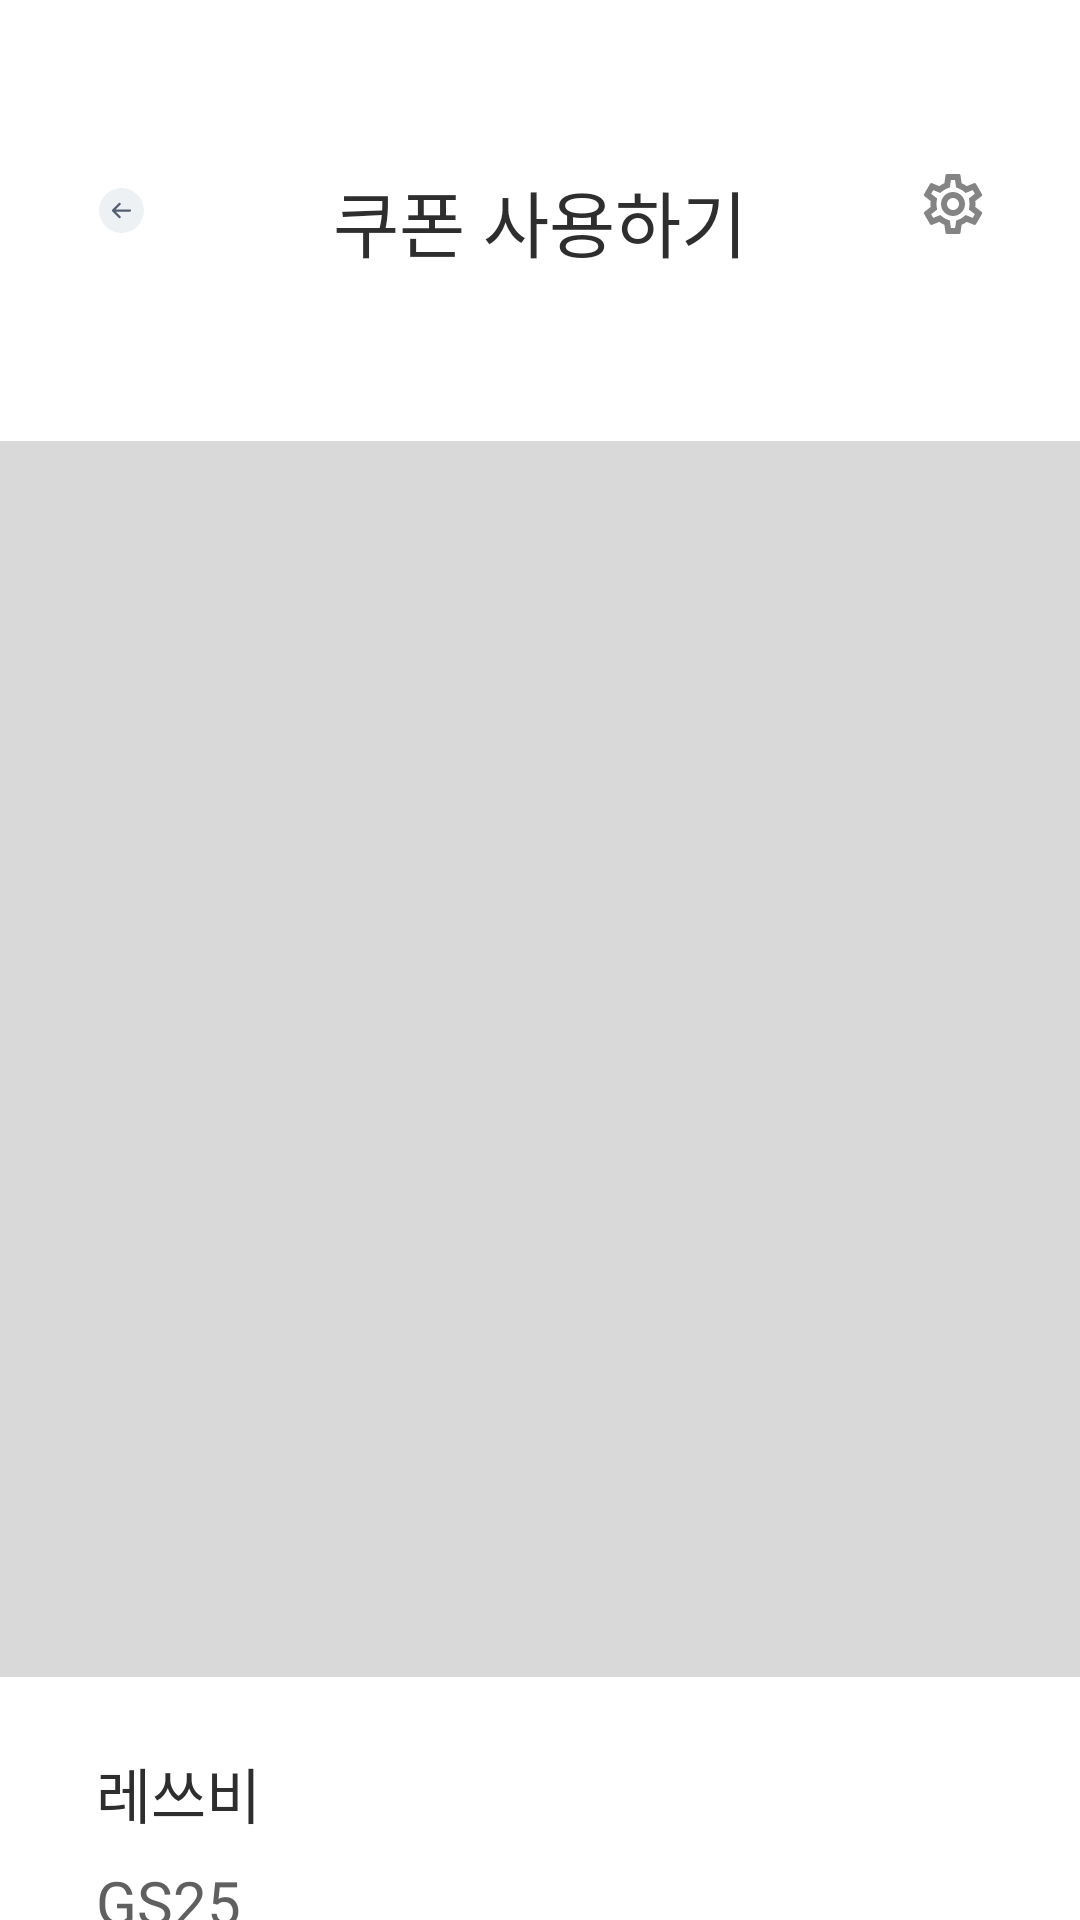

Named icons in this screenshot (1080w x 1920h) and their bounding boxes, (x1, y1, x2, y2):
back: (99, 188, 144, 233)
setting: (924, 174, 982, 234)
